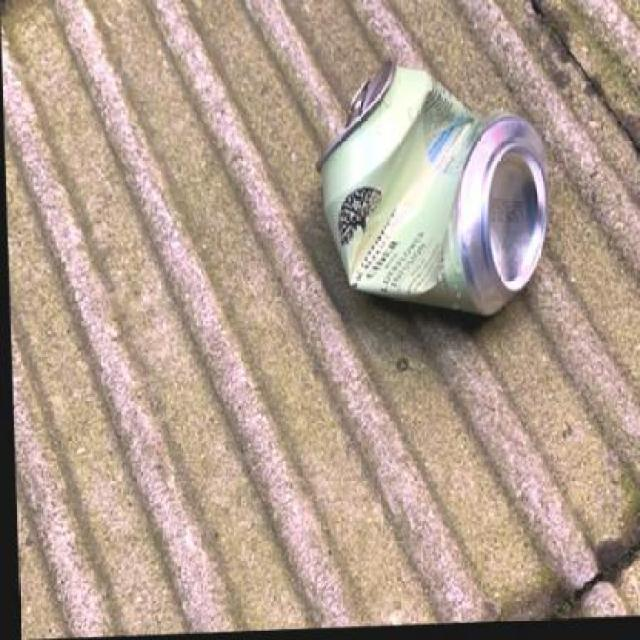Metal: (304, 53, 553, 324)
